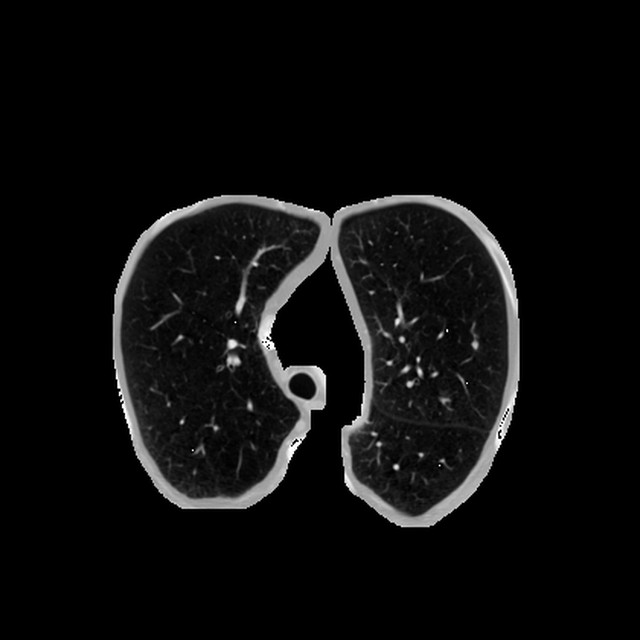PN: (469, 338, 482, 350)
